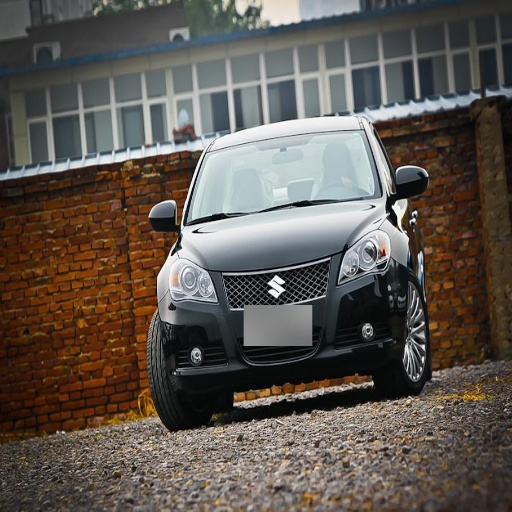front_bumper: (157, 250, 402, 393)
front_right_light: (165, 255, 216, 303)
hood: (183, 201, 382, 270)
left_mirror: (393, 166, 428, 204)
